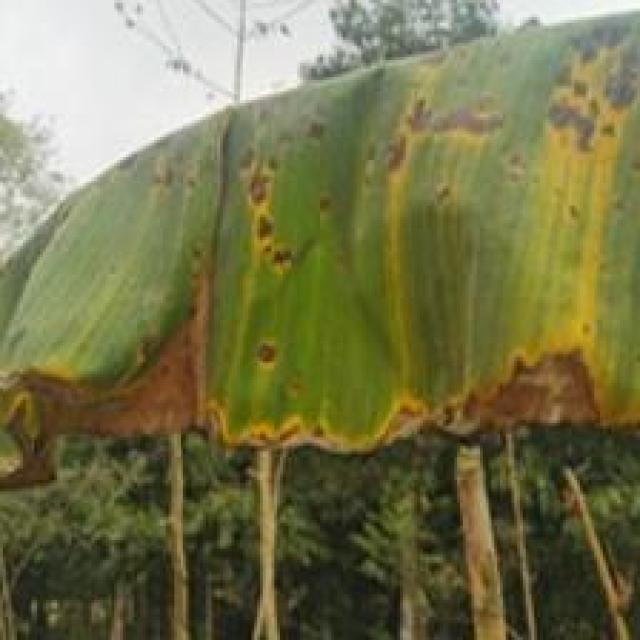Downey_mildrew: (248, 3, 640, 466), (0, 120, 241, 504)
